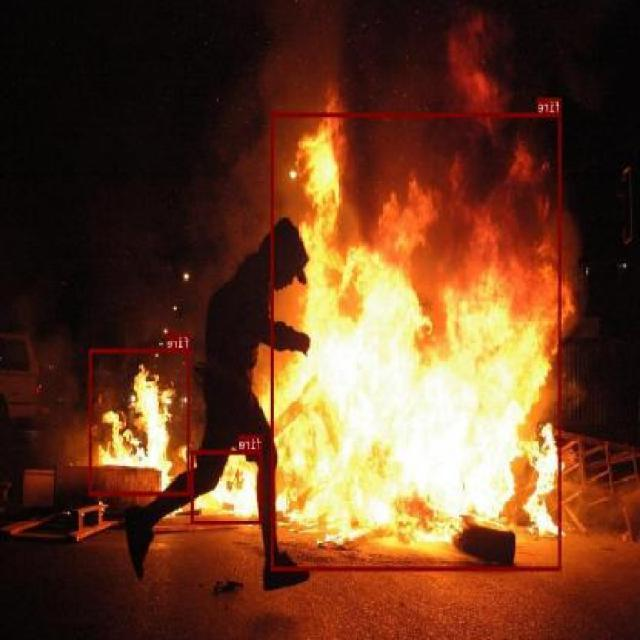fire: (272, 113, 562, 570), (89, 348, 191, 496), (192, 450, 262, 524)
